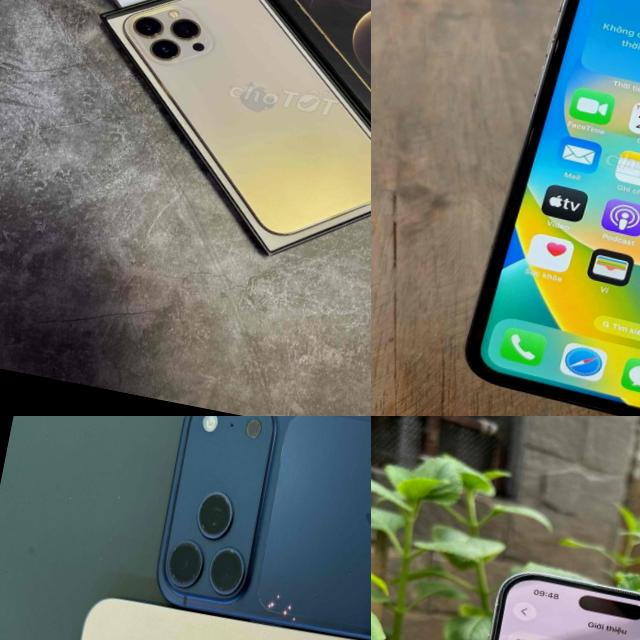gen_12_13: (87, 0, 371, 258)
gen_14: (429, 551, 640, 640)
gen_17: (158, 416, 371, 639)
gen_x_xs: (447, 0, 640, 416)
scratch: (253, 564, 325, 640)
